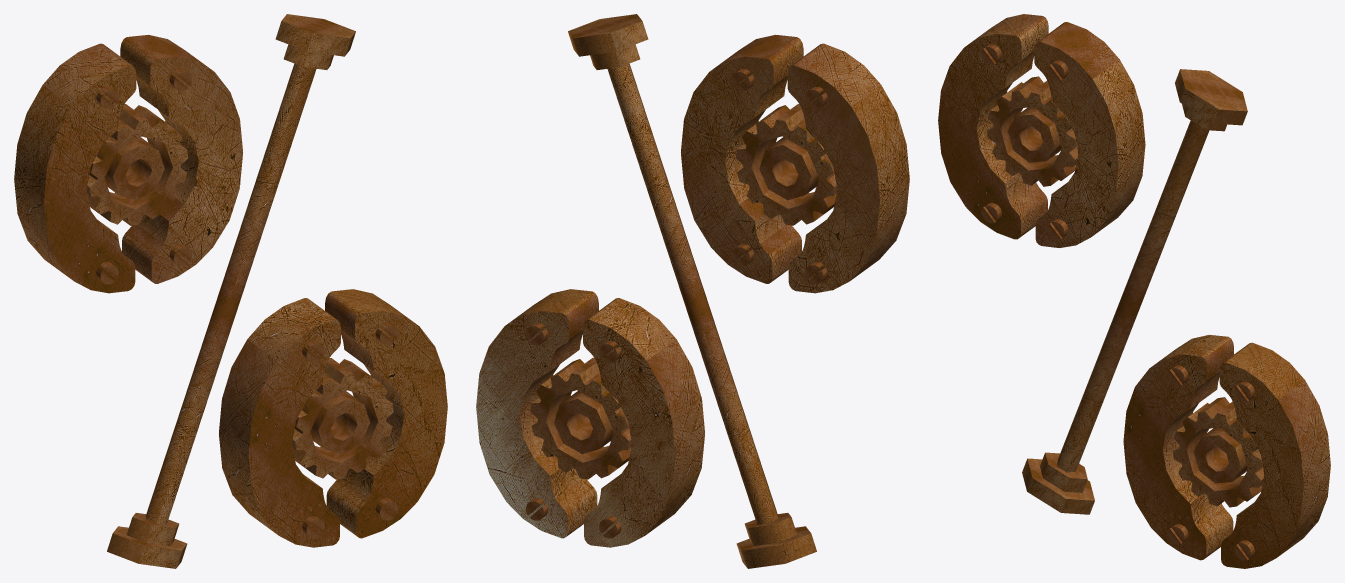
File: Interest.FBX
3 renders of one model, left to right at view 1: azimuth 30°, elevation 25°; view 2: azimuth 150°, elevation 25°; view 3: azimuth 330°, elevation 25°, orthographic. The views are drawn at different scales.
Parts seen in each view (by area): view 1: Interest004, Tube_379, Cogwheel_238, Cogwheel_237, Tube_371, Tube_377, Tube_374, Tube_370; view 2: Interest004, Tube_379, Cogwheel_238, Cogwheel_237, Tube_371, Tube_377, Tube_374, Tube_370; view 3: Interest004, Tube_379, Cogwheel_237, Cogwheel_238, Tube_371, Tube_377, Tube_374.
Boxes of the visible parts, <box> form: Interest004: <box>14,34,447,547</box>; Tube_379: <box>145,63,316,524</box>; Cogwheel_238: <box>292,358,393,479</box>; Cogwheel_237: <box>86,104,188,225</box>; Tube_371: <box>275,14,355,56</box>; Tube_377: <box>107,526,187,568</box>; Tube_374: <box>126,513,179,545</box>; Tube_370: <box>283,44,333,69</box>; Interest004: <box>476,34,909,547</box>; Tube_379: <box>607,63,778,524</box>; Cogwheel_238: <box>530,357,631,479</box>; Cogwheel_237: <box>735,104,837,225</box>; Tube_371: <box>568,14,648,56</box>; Tube_377: <box>736,526,816,568</box>; Tube_374: <box>744,513,797,545</box>; Tube_370: <box>590,44,640,69</box>; Interest004: <box>938,14,1330,568</box>; Tube_379: <box>1057,120,1209,472</box>; Cogwheel_237: <box>986,76,1078,186</box>; Cogwheel_238: <box>1172,397,1264,507</box>; Tube_371: <box>1175,69,1247,125</box>; Tube_377: <box>1022,458,1094,514</box>; Tube_374: <box>1040,452,1087,492</box>.
Bounding box in the file's own units: 78.13 × 97.9 × 12.89.
1 material, 1 textured.
